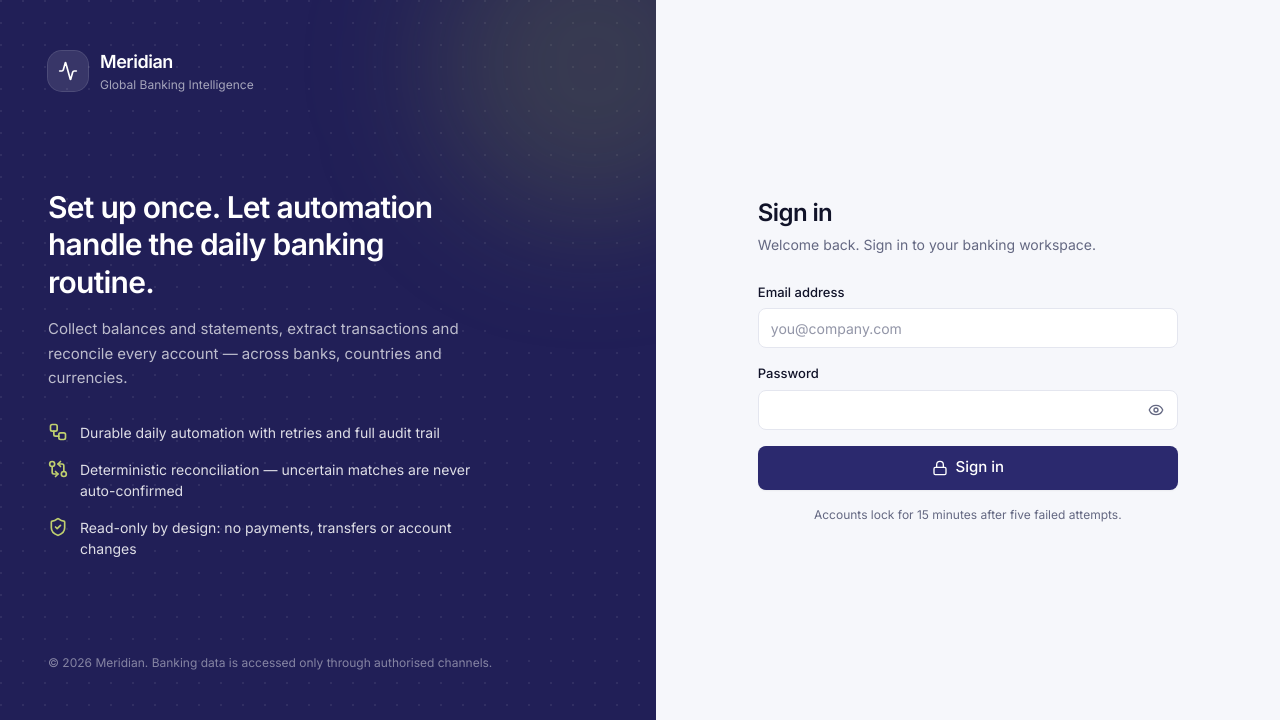
Test: Login page › shows server errors
The width and height of the screenshot is (1280, 720).
Type "a@example.com" into the field labelled "Email address".
click(968, 328); type("a@example.com")  # box [758, 308, 1178, 348]
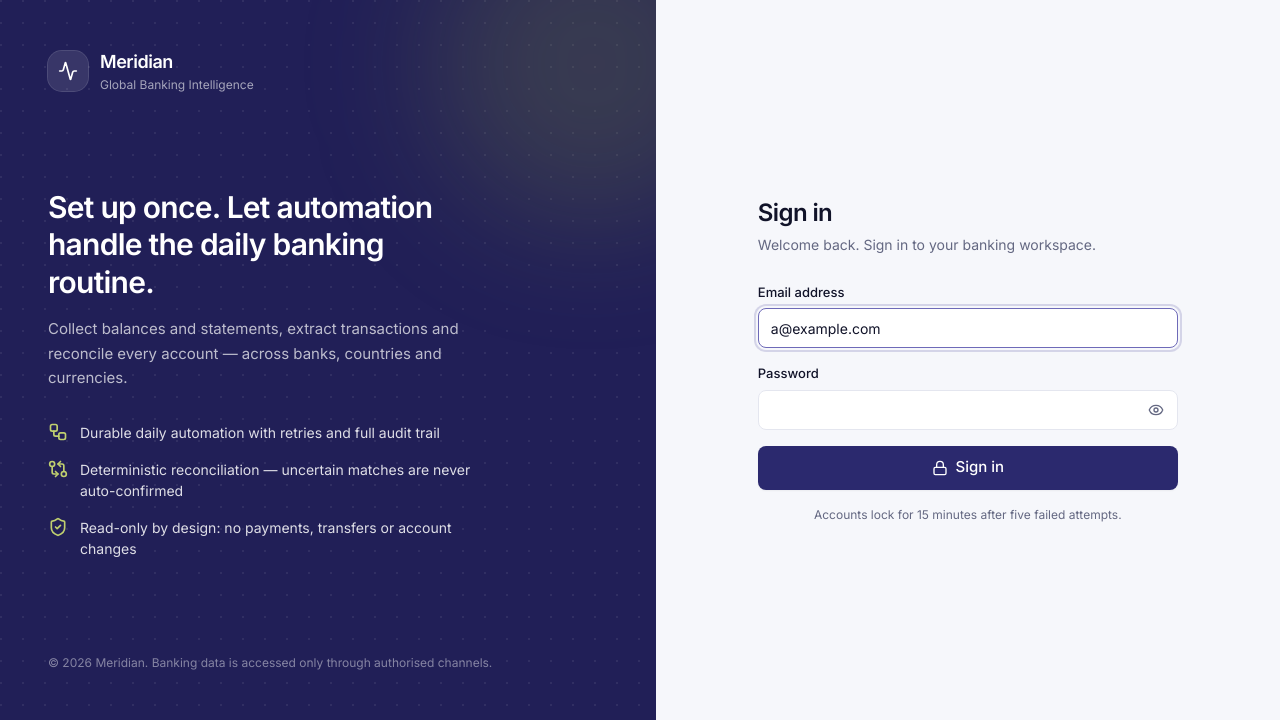
Type "x" into the password field labelled "Password".
click(968, 410); type("x")  # box [758, 390, 1178, 430]
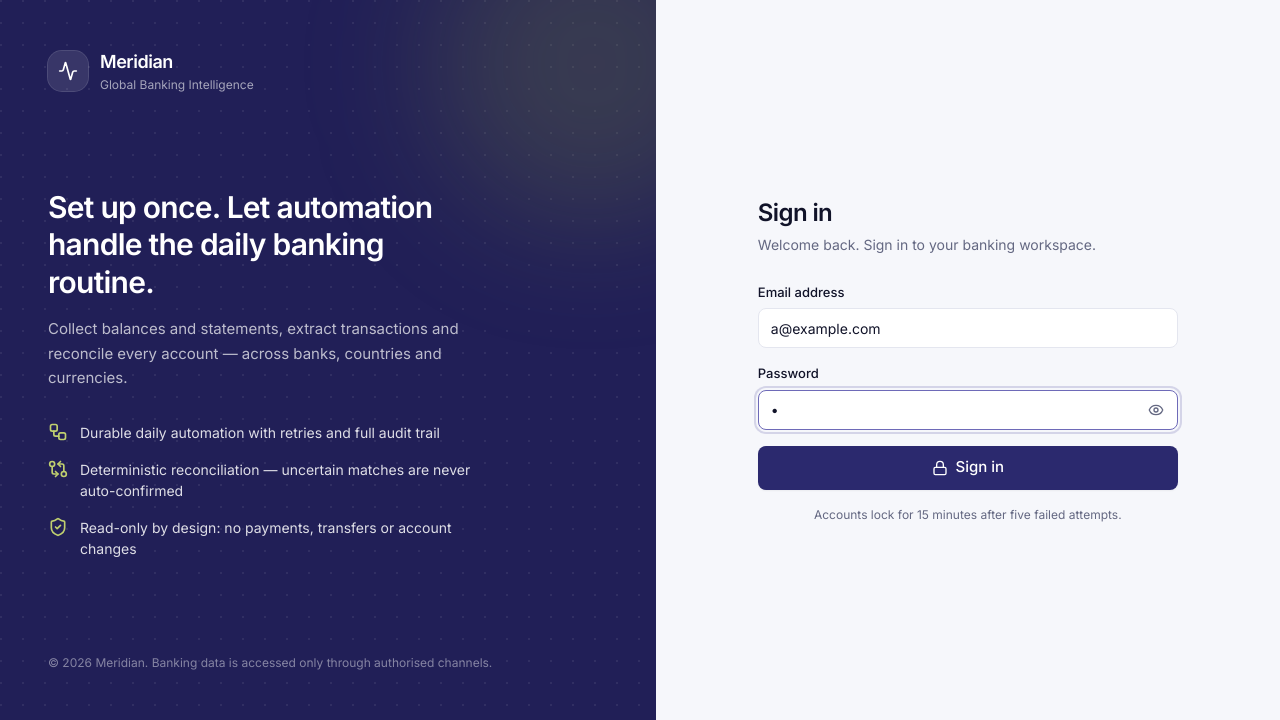
Click the button "Sign in".
click(968, 468)  # box [758, 446, 1178, 490]
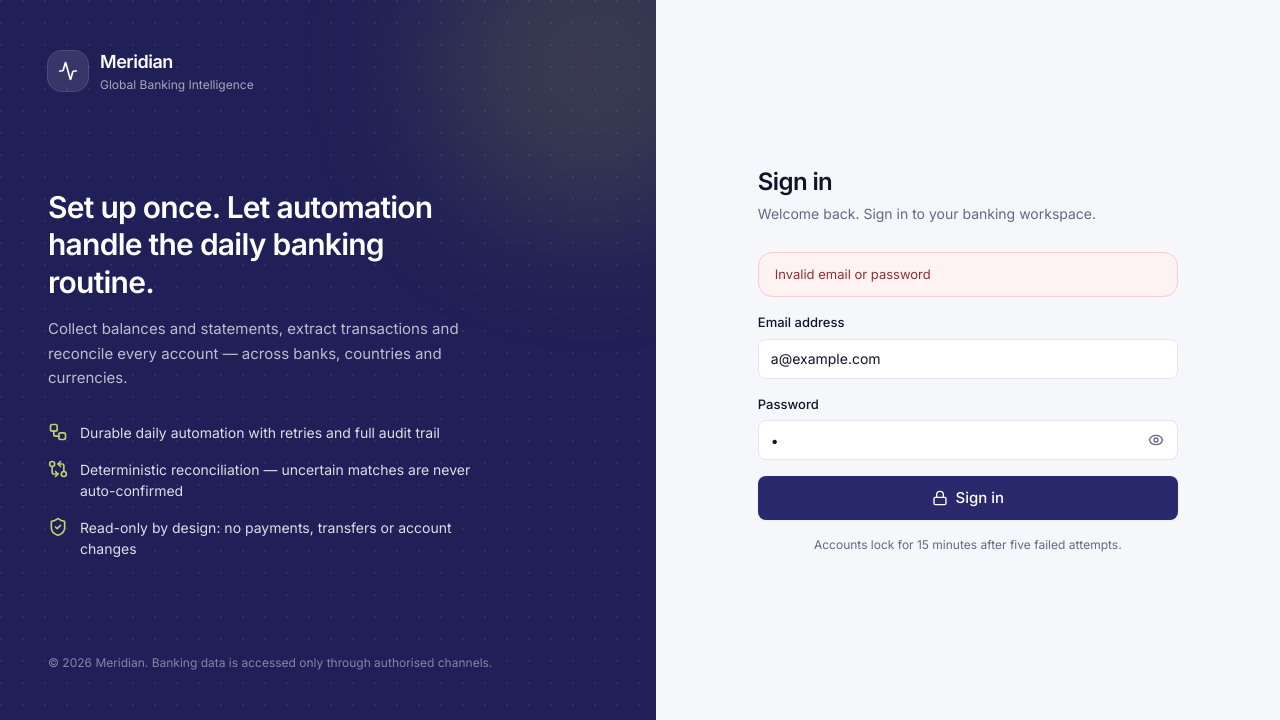
Expected: the text "Invalid email or password" is shown, [775, 266, 931, 282]
